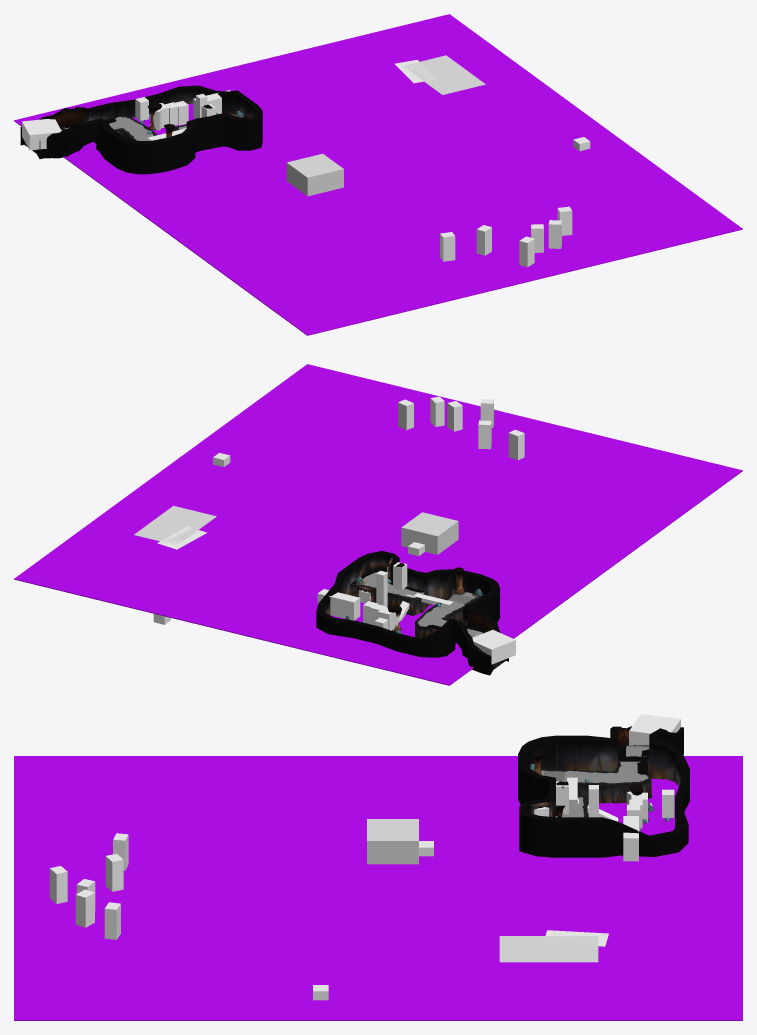
3 views of the same model, one above another, from view 1: azimuth 30°, elevation 25°; view 2: azimuth 150°, elevation 25°; view 3: azimuth 270°, elevation 25° (orthographic). The views are drawn at different scales.
Visible parts, largest first — view 1: NavGrid_CheckArea, D031_Wall001, Dan1_2, Cube (9), Cube, FieldDungeon_Enter (2), BGMap_03_Dun1_5; view 2: NavGrid_CheckArea, D031_Wall001, Cube (9), Cube, Dan1_2, BGMap_03_Dun1_5, FieldDungeon_Enter (2), Dun_Side_Wall001_NoAlphe, Cube (2); view 3: NavGrid_CheckArea, D031_Wall001, Cube (×2), Cube (9), BGMap_03_Dun1_5, Cube (2) (×2), FieldDungeon_Enter (2), Dun_Side_Wall001_NoAlphe, Dan1_2, Cube (3), Cube (4), Dun_Side_Wall001.
Part boxes in pixels (box(x1,y1,x2,y2)): NavGrid_CheckArea: box(14, 14, 742, 335); D031_Wall001: box(75, 85, 262, 174); Dan1_2: box(20, 108, 99, 158); Cube (9): box(286, 153, 343, 196); Cube: box(403, 55, 485, 94); FieldDungeon_Enter (2): box(22, 119, 61, 150); BGMap_03_Dun1_5: box(61, 117, 186, 140); NavGrid_CheckArea: box(14, 364, 742, 685); D031_Wall001: box(316, 551, 499, 657); Cube (9): box(401, 512, 458, 554); Cube: box(134, 506, 216, 544); Dan1_2: box(452, 608, 508, 675); BGMap_03_Dun1_5: box(363, 571, 482, 637); FieldDungeon_Enter (2): box(472, 629, 515, 664); Dun_Side_Wall001_NoAlphe: box(349, 584, 480, 638); Cube (2): box(317, 589, 360, 620); NavGrid_CheckArea: box(14, 756, 742, 1020); D031_Wall001: box(518, 735, 689, 857); Cube (×2): box(75, 889, 598, 962); Cube (9): box(367, 819, 418, 864); BGMap_03_Dun1_5: box(541, 745, 649, 817); Cube (2) (×2): box(104, 816, 638, 939); FieldDungeon_Enter (2): box(629, 714, 680, 745); Dun_Side_Wall001_NoAlphe: box(577, 761, 651, 817); Dan1_2: box(610, 726, 683, 754); Cube (3): box(49, 866, 67, 903); Cube (4): box(105, 853, 123, 891); Dun_Side_Wall001: box(541, 760, 650, 817).
Size of what is drawn, in the model's own units: 63.49 by 8.94 by 70.
